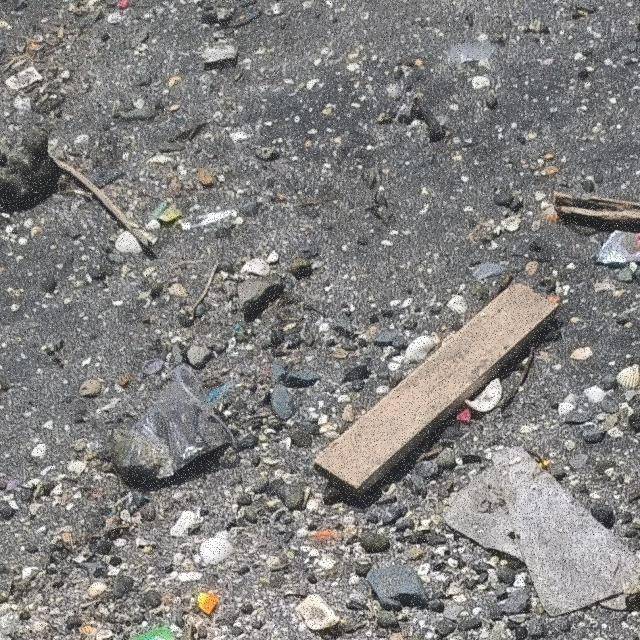plastic_waste: (111, 366, 237, 488)
wood_waste: (313, 285, 562, 493)
